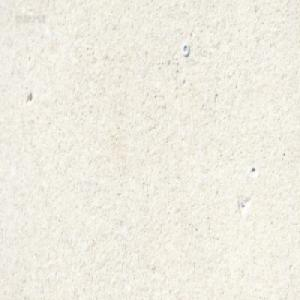Washer: (182, 42, 189, 56)
